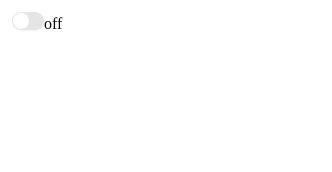
Scenario: Switch › toggles on click and reflects the state to assistive tech
Click the switch named "Activo".
click(28, 21)  # box [12, 12, 44, 30]
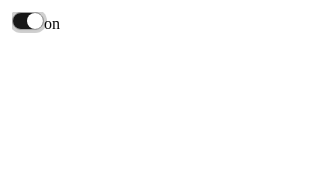
Expected: the switch named "Activo" is checked, [12, 12, 44, 30]
Expected: the text "on" is shown, [44, 15, 60, 32]
